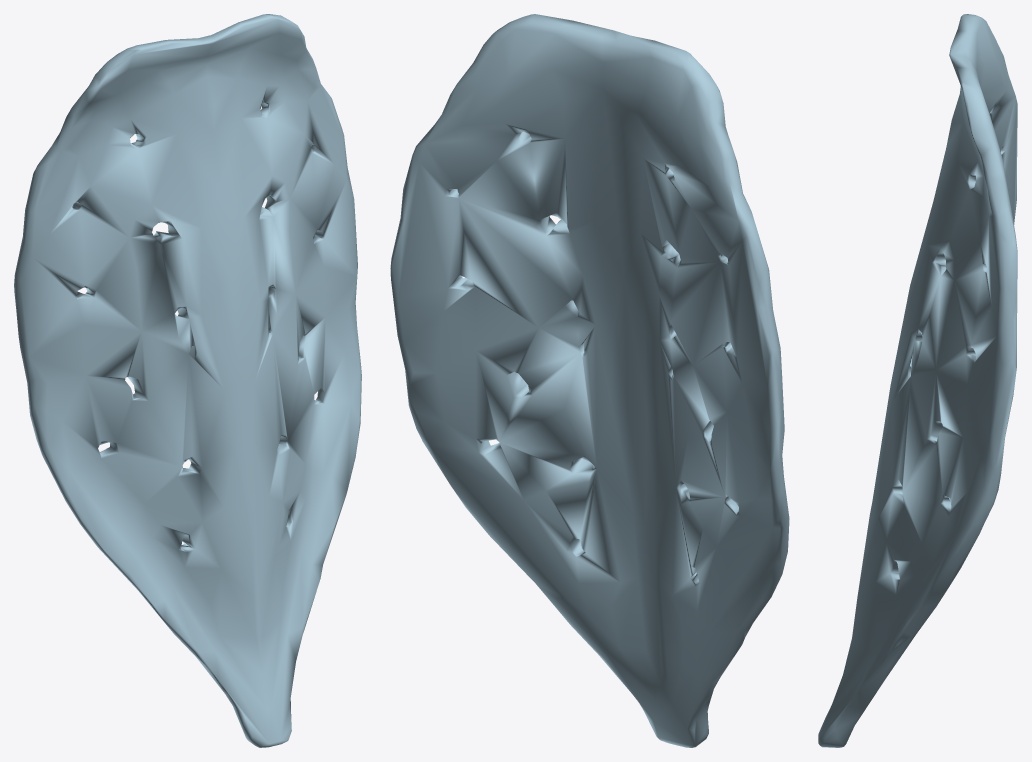
The model's file is visceras-epiglottis.glb.
3 views of the same model, side by side, from view 1: azimuth 30°, elevation 25°; view 2: azimuth 150°, elevation 25°; view 3: azimuth 270°, elevation 25° (orthographic). The views are drawn at different scales.
Visible parts, largest first — view 1: Epiglottis; view 2: Epiglottis; view 3: Epiglottis.
Part boxes in pixels (x1,y1,x2,y2): Epiglottis: (14,14,361,747); Epiglottis: (390,14,789,747); Epiglottis: (818,14,1017,747).
Bounding box in the file's own units: 0.0157 × 0.0295 × 0.00769.
